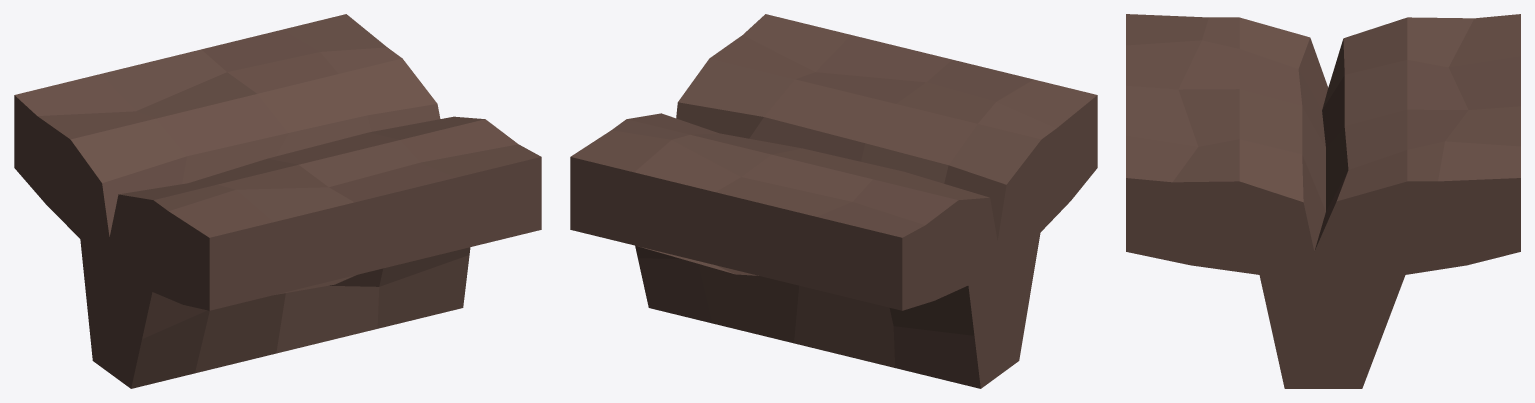
Rendered from Cave_Ceiling_Border_DoubleSided.fbx.
The picture shows the model from 3 angles, left to right: view 1: azimuth 30°, elevation 25°; view 2: azimuth 150°, elevation 25°; view 3: azimuth 270°, elevation 25°; orthographic projection.
Parts seen in each view (by area): view 1: Cave_Ceiling_Border_DoubleSided; view 2: Cave_Ceiling_Border_DoubleSided; view 3: Cave_Ceiling_Border_DoubleSided.
Part boxes in pixels (x1=…): Cave_Ceiling_Border_DoubleSided: x1=14, y1=14, x2=541, y2=388; Cave_Ceiling_Border_DoubleSided: x1=570, y1=14, x2=1097, y2=388; Cave_Ceiling_Border_DoubleSided: x1=1126, y1=14, x2=1520, y2=388.
Size of the model in its own units: 5 by 5.09 by 3.15.
